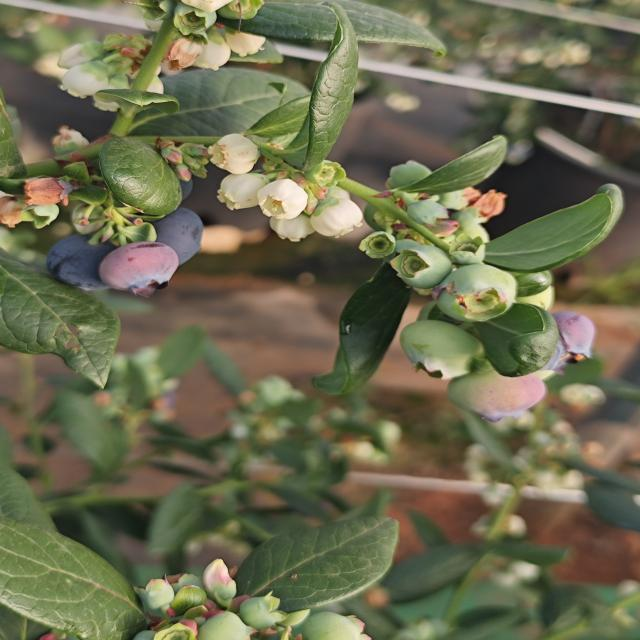ripe: (43, 236, 115, 292), (146, 196, 206, 262), (552, 304, 609, 372)
